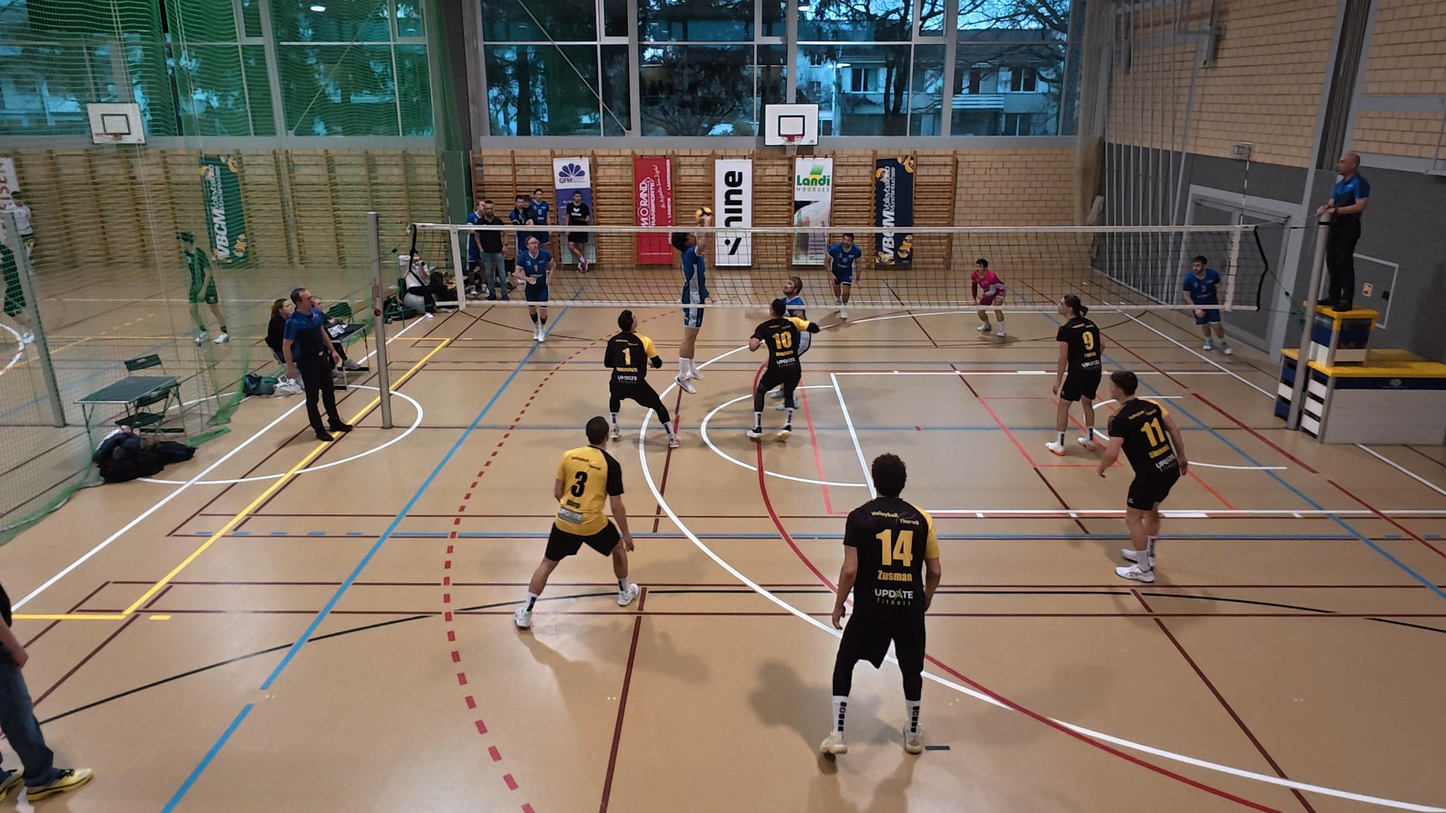alzata: (670, 215, 714, 394)
